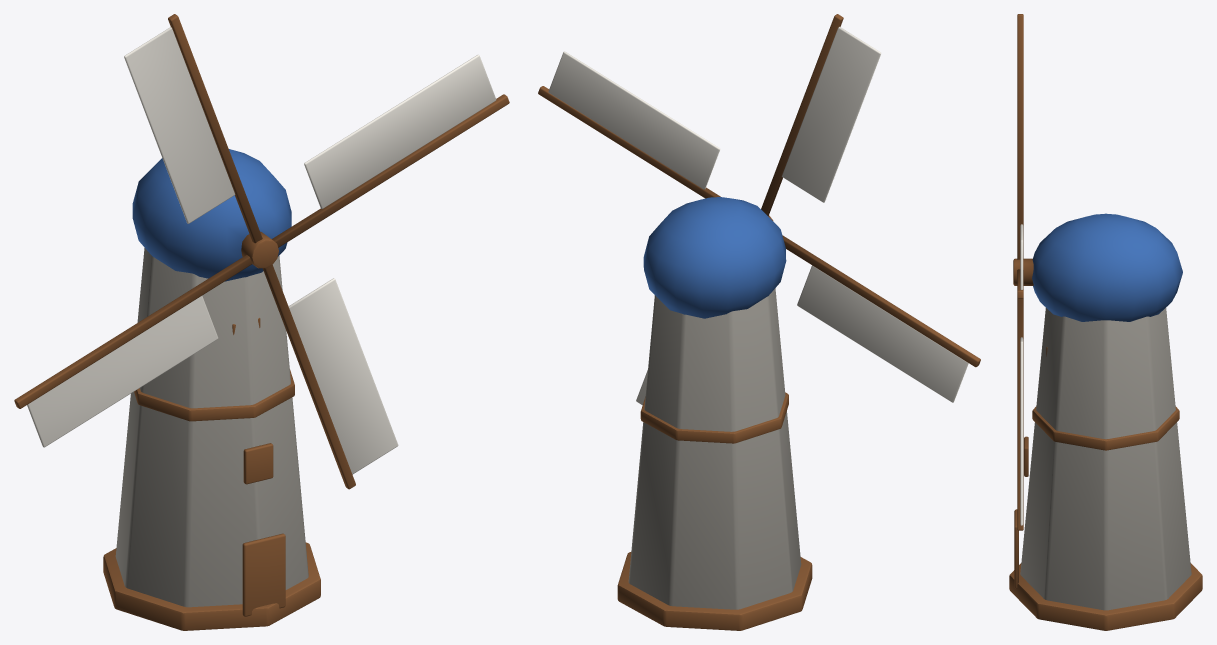
Rendered from windmill.glb.
3 views of the same model, side by side, from view 1: azimuth 30°, elevation 25°; view 2: azimuth 150°, elevation 25°; view 3: azimuth 270°, elevation 25° (orthographic). The views are drawn at different scales.
Visible parts, largest first — view 1: windmill; view 2: windmill; view 3: windmill.
Boxes of the visible parts, box(x1,y1,x2,y2) form: windmill: box(14, 14, 509, 630); windmill: box(538, 14, 980, 630); windmill: box(1009, 14, 1202, 630).
Size of the model in its own units: 10.57 by 12.88 by 4.18.
